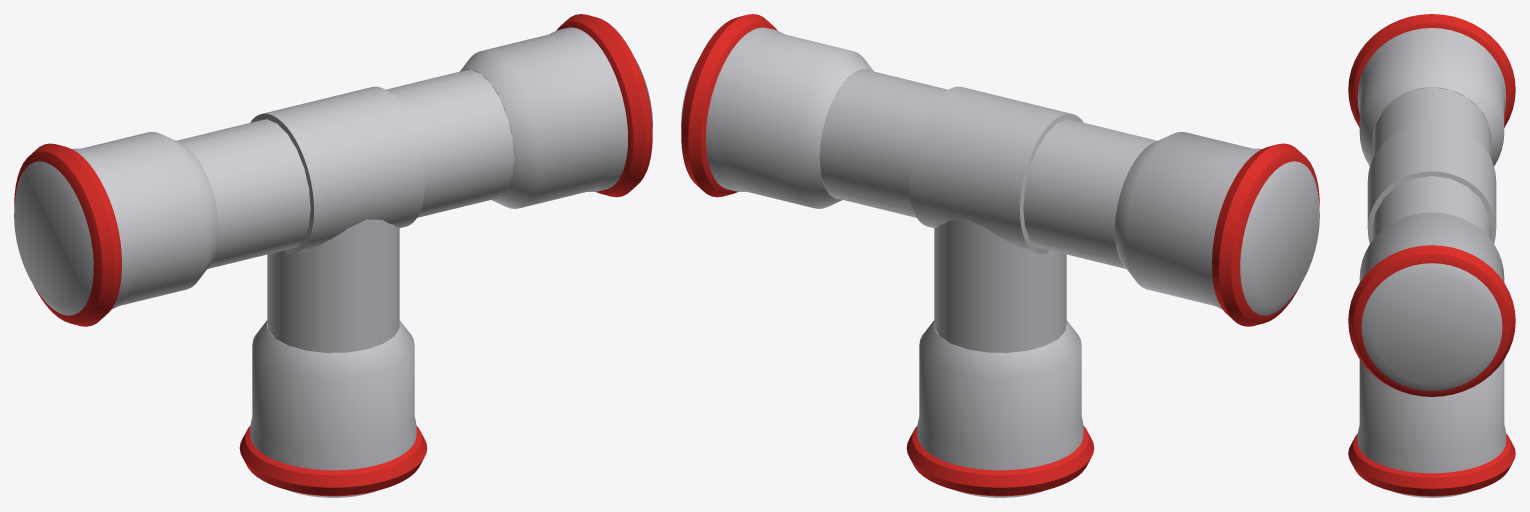
The model's file is fitting_tee_D_r.glb.
3 views of the same model, side by side, from view 1: azimuth 30°, elevation 25°; view 2: azimuth 150°, elevation 25°; view 3: azimuth 270°, elevation 25° (orthographic). The views are drawn at different scales.
Parts seen in each view (by area): view 1: раструб, корпус, раструб.002, раструб.001, узел, корпус.001, кольцо пресс, кольцо пресс.002, кольцо пресс.001; view 2: раструб, корпус, раструб.002, раструб.001, узел, корпус.001, кольцо пресс, кольцо пресс.002, кольцо пресс.001; view 3: раструб.001, раструб.002, раструб, корпус, узел, кольцо пресс.001, кольцо пресс.002, кольцо пресс.
Boxes of the visible parts, x1=… form: раструб: x1=14, y1=132, x2=218, y2=315; корпус: x1=176, y1=69, x2=514, y2=268; раструб.002: x1=250, y1=320, x2=416, y2=497; раструб.001: x1=460, y1=27, x2=652, y2=208; узел: x1=250, y1=86, x2=424, y2=254; корпус.001: x1=267, y1=219, x2=399, y2=352; кольцо пресс: x1=14, y1=143, x2=121, y2=326; кольцо пресс.002: x1=239, y1=425, x2=427, y2=496; кольцо пресс.001: x1=556, y1=14, x2=652, y2=197; раструб: x1=1115, y1=132, x2=1319, y2=315; корпус: x1=819, y1=69, x2=1157, y2=268; раструб.002: x1=917, y1=320, x2=1083, y2=497; раструб.001: x1=681, y1=27, x2=873, y2=208; узел: x1=909, y1=86, x2=1083, y2=254; корпус.001: x1=934, y1=219, x2=1066, y2=352; кольцо пресс: x1=1212, y1=143, x2=1319, y2=326; кольцо пресс.002: x1=906, y1=425, x2=1094, y2=496; кольцо пресс.001: x1=681, y1=14, x2=777, y2=197; раструб.001: x1=1359, y1=212, x2=1504, y2=390; раструб.002: x1=1357, y1=360, x2=1506, y2=497; раструб: x1=1357, y1=28, x2=1506, y2=166; корпус: x1=1372, y1=87, x2=1491, y2=239; узел: x1=1367, y1=123, x2=1496, y2=243; кольцо пресс.001: x1=1348, y1=245, x2=1515, y2=396; кольцо пресс.002: x1=1348, y1=433, x2=1515, y2=496; кольцо пресс: x1=1348, y1=14, x2=1515, y2=127.
Bounding box in the file's own units: 0.124 × 0.0796 × 0.0352.
